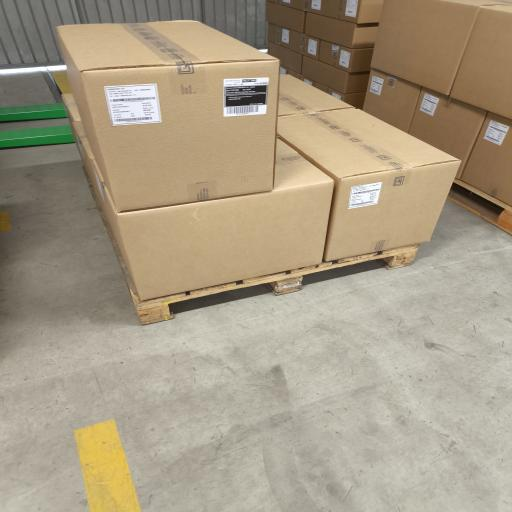pallet: (85, 172, 418, 324), (113, 241, 418, 324), (448, 180, 511, 234), (0, 126, 74, 148), (0, 103, 67, 121)
